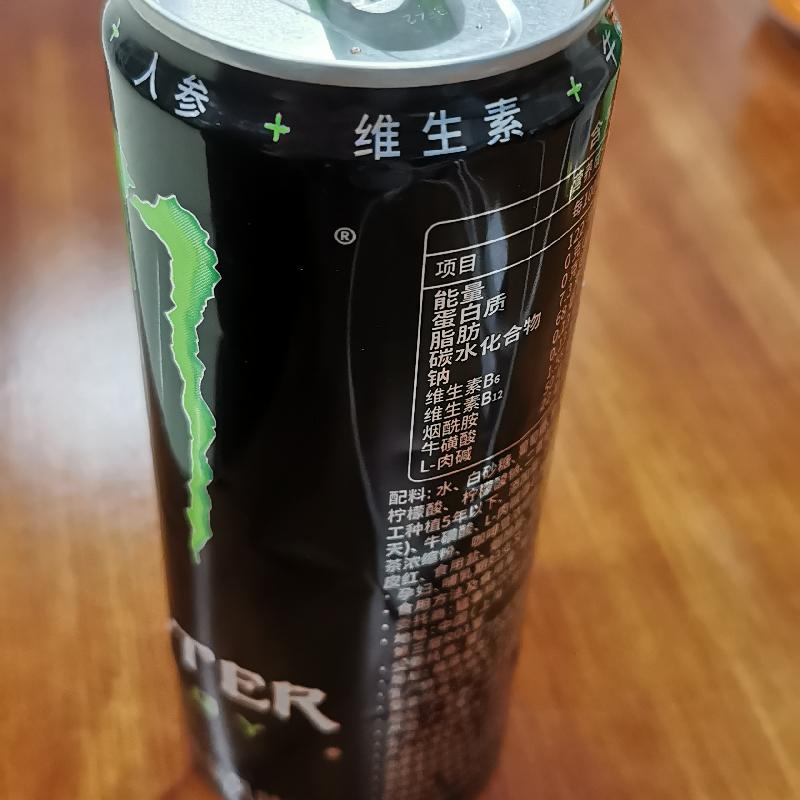cans: (99, 0, 630, 799)
